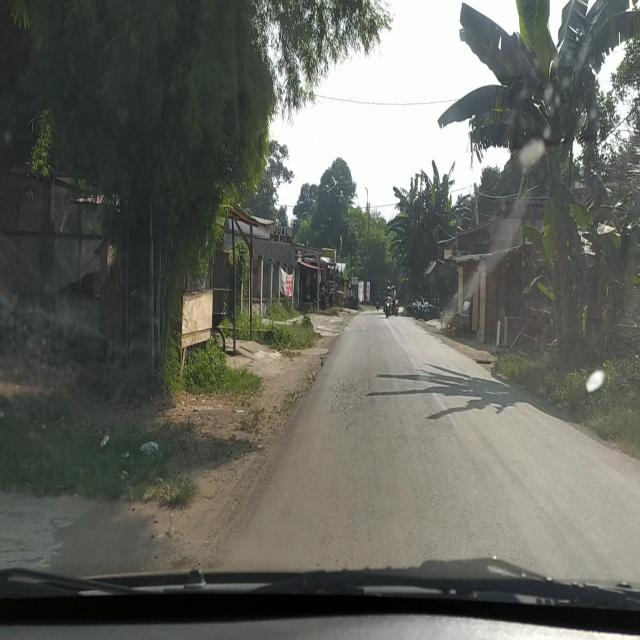Drain Hole: (325, 373, 379, 431)
